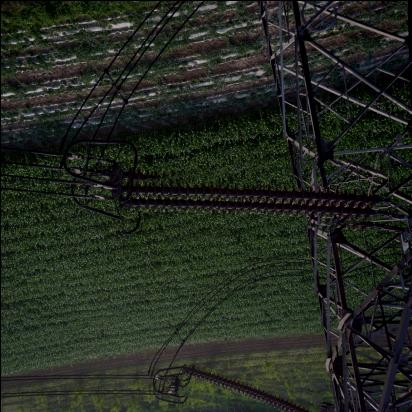insulator: (118, 160, 390, 240), (178, 372, 323, 412)
